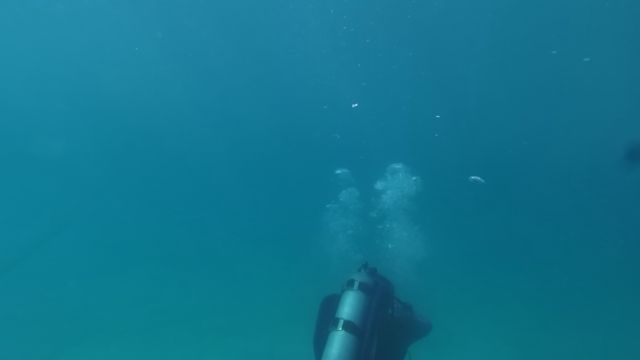Diver: (303, 259, 428, 354)
